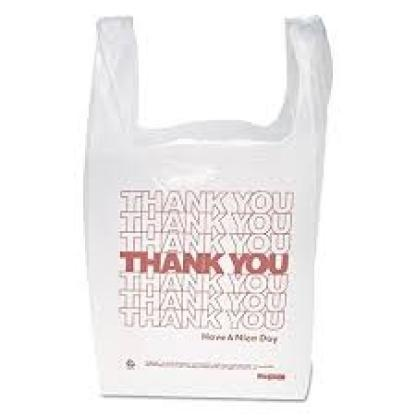trash: (85, 16, 331, 399)
